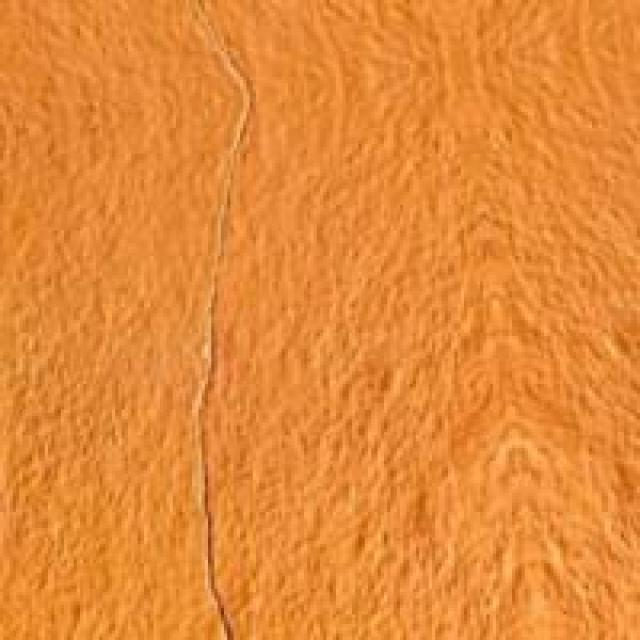Crack: (93, 154, 278, 636)
